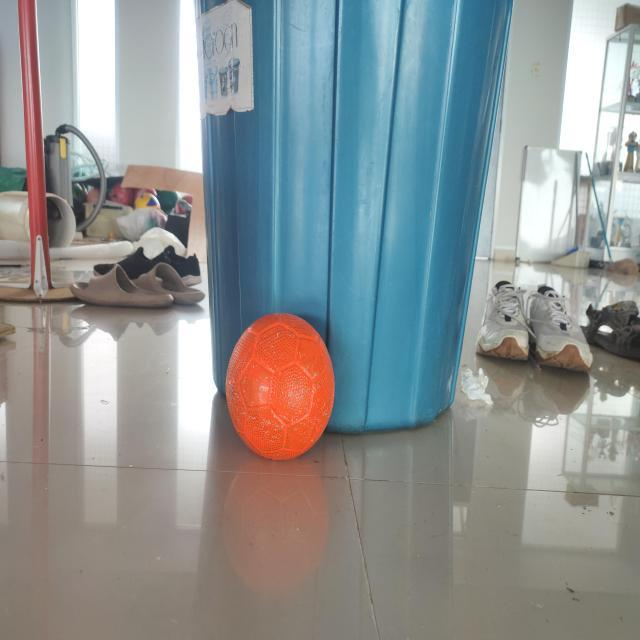bola: (217, 308, 347, 468)
